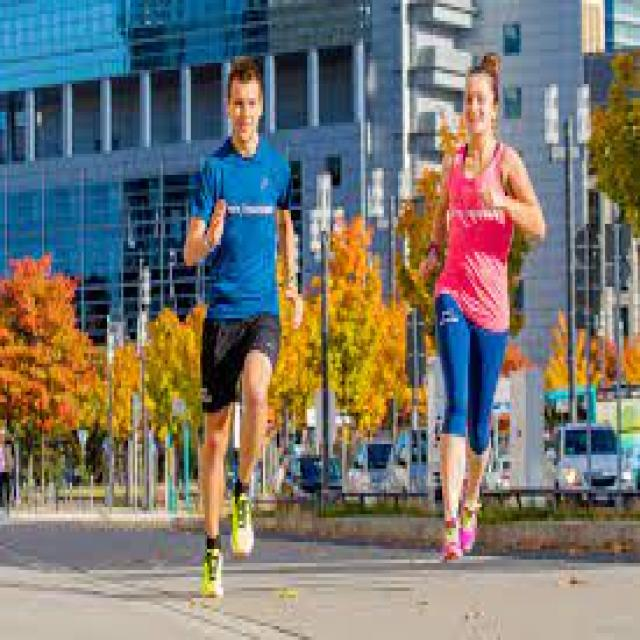Person: (184, 61, 300, 595), (424, 58, 546, 562)
